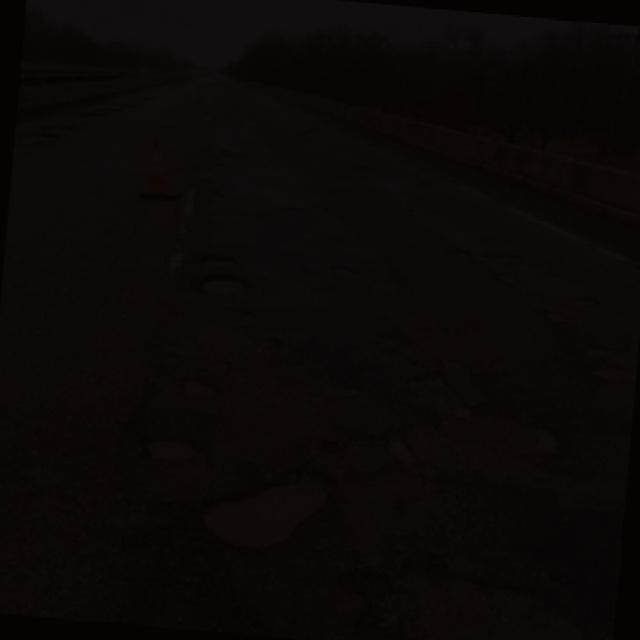Pothole: (185, 466, 344, 550), (399, 361, 477, 421), (567, 331, 640, 384), (147, 426, 219, 466), (375, 419, 426, 465), (200, 263, 257, 299), (195, 248, 245, 281), (519, 423, 569, 456), (168, 376, 227, 401)
